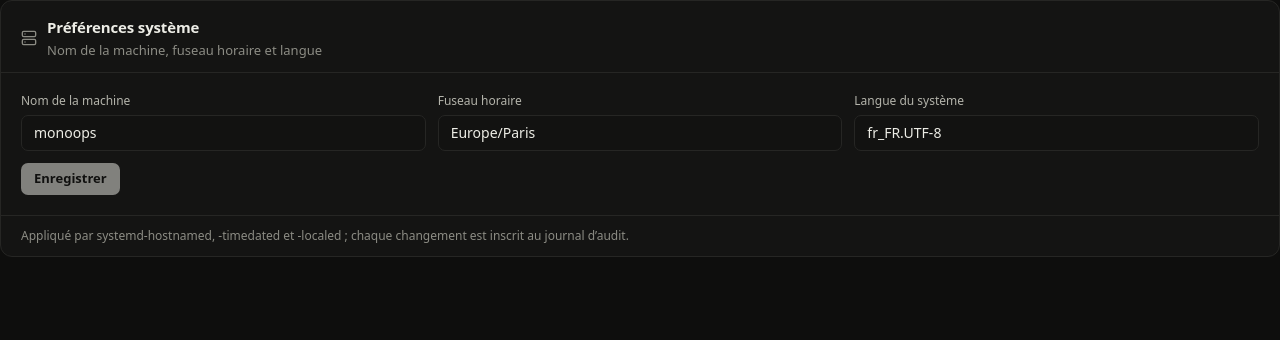
Test: SystemPreferencesCard › shows the refusal of the system
Step 1. Replace the text in the field labelled "Fuseau horaire" with "Mars/Olympus" → (640, 133), box [438, 115, 842, 151]
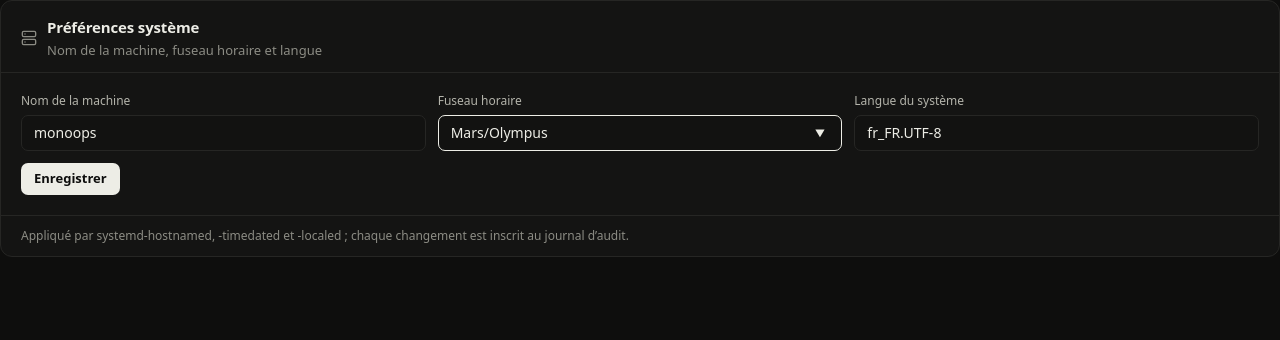
Step 2. Click the button "Enregistrer" → (70, 179), box [21, 163, 120, 195]
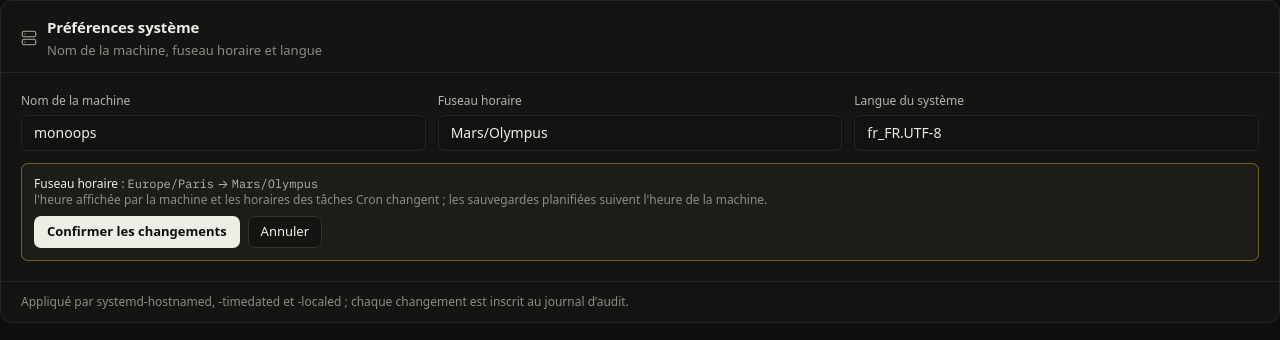
Step 3. Click the button "Confirmer les changements" → (137, 232), box [34, 216, 240, 248]
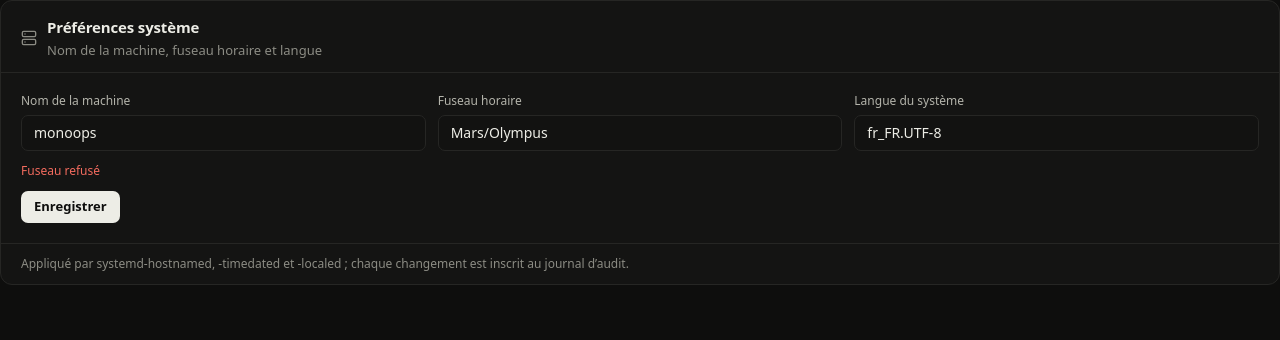
Expected: the message reads "Fuseau refusé", [21, 162, 100, 179]
